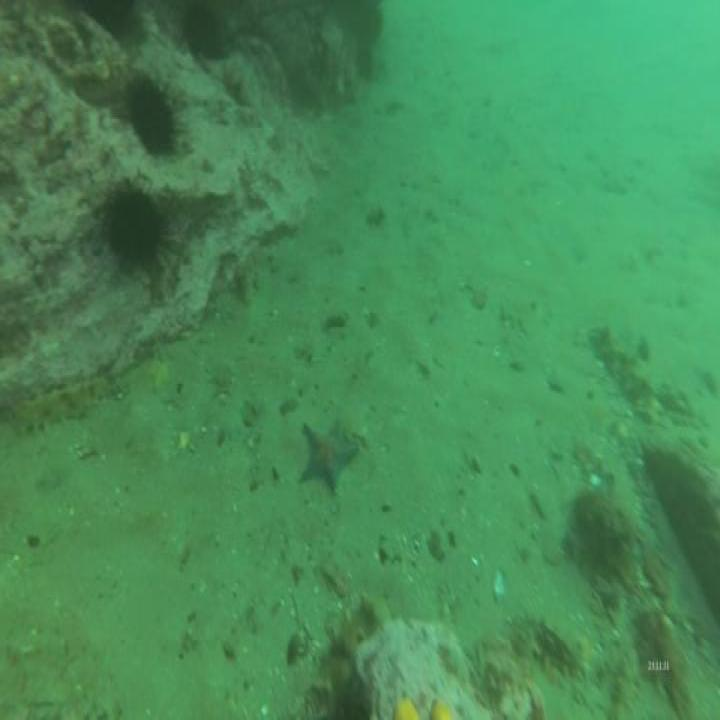echinus: (103, 178, 169, 293), (118, 64, 179, 160)
starfish: (301, 414, 360, 500)
